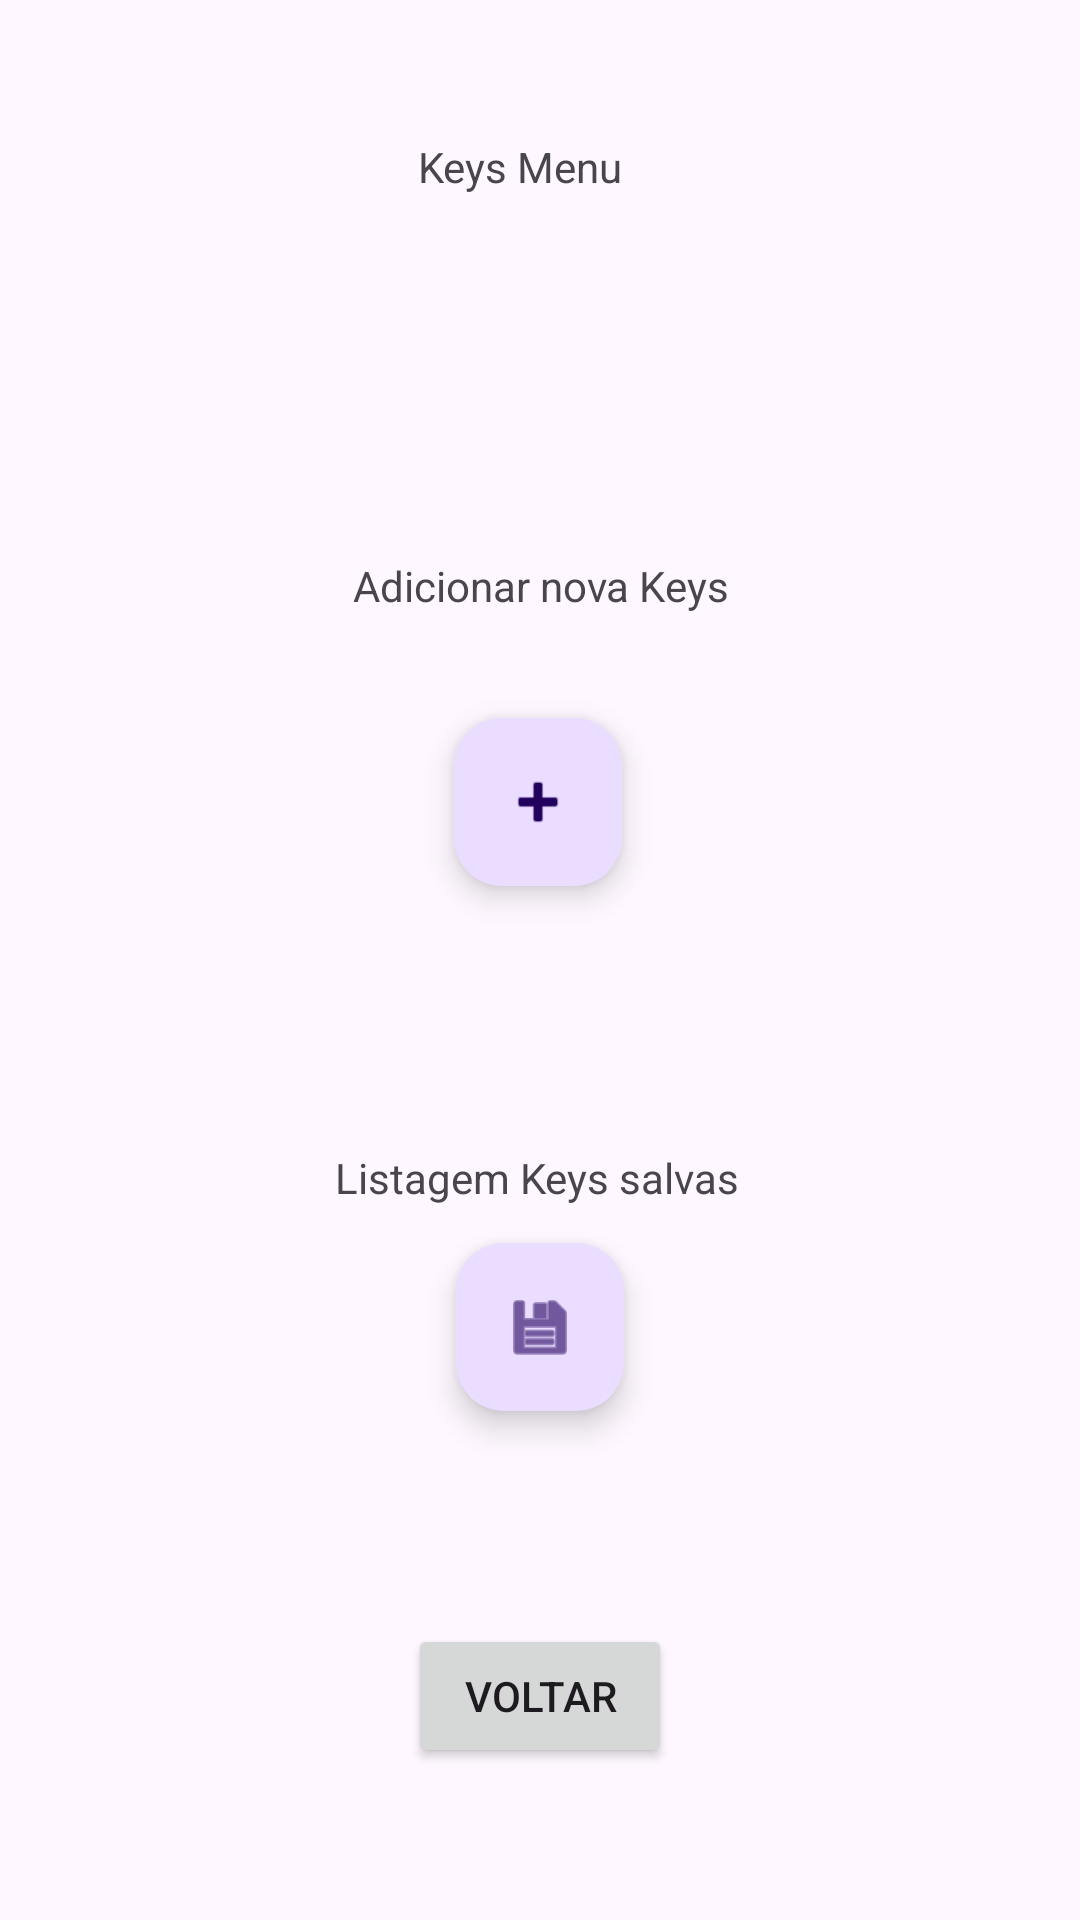

Named icons in this screenshot (1080*1920) and their centers, (x,y):
add: (538,802)
